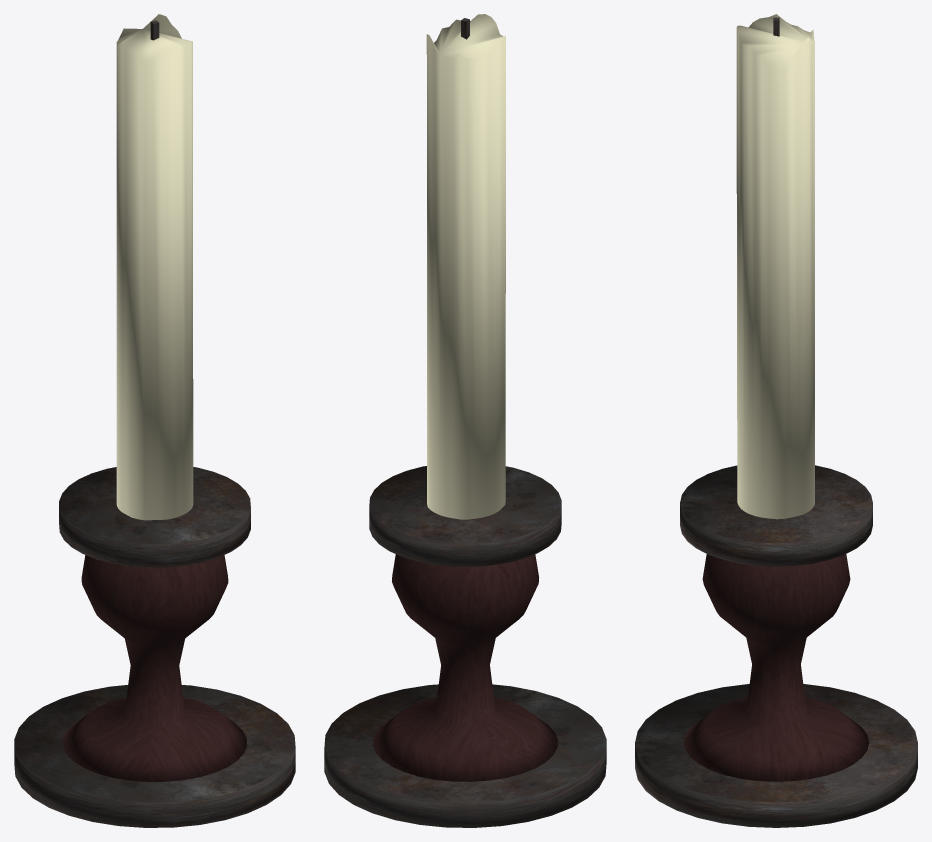
Rendered from candlestick_m1.fbx.
The picture shows the model from 3 angles, left to right: view 1: azimuth 30°, elevation 25°; view 2: azimuth 150°, elevation 25°; view 3: azimuth 270°, elevation 25°; orthographic projection.
Visible parts, largest first — view 1: CandleStick; view 2: CandleStick; view 3: CandleStick.
Part boxes in pixels (box(x1,y1,x2,y2)): CandleStick: box(14, 14, 295, 827); CandleStick: box(324, 14, 606, 827); CandleStick: box(635, 14, 917, 827).
Bounding box in the file's own units: 0.44 × 0.44 × 1.29.
